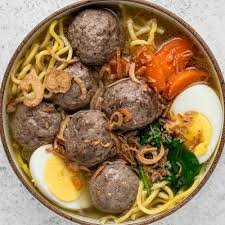bakso: (12, 10, 179, 212)
